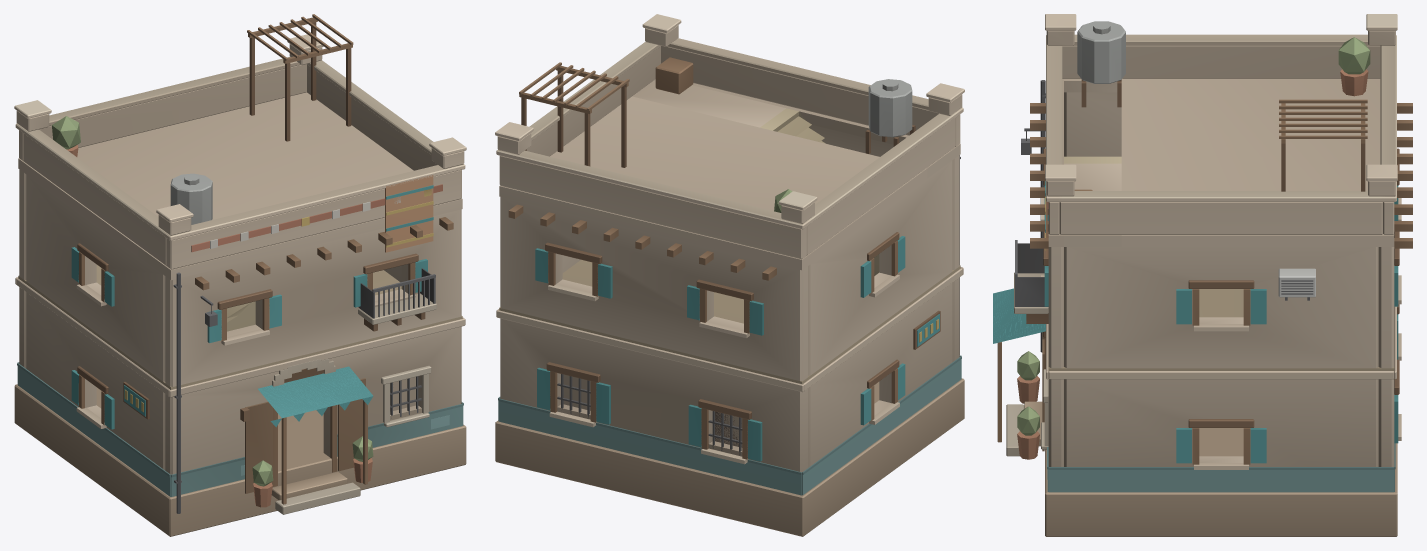
Rendered from house_3.glb.
The picture shows the model from 3 angles, left to right: view 1: azimuth 30°, elevation 25°; view 2: azimuth 150°, elevation 25°; view 3: azimuth 270°, elevation 25°; orthographic projection. The views are drawn at different scales.
Visible parts, largest first — view 1: house_3; view 2: house_3; view 3: house_3.
Boxes of the visible parts, <box> form: house_3: <box>14,14,466,536</box>; house_3: <box>495,14,964,536</box>; house_3: <box>993,14,1412,536</box>.
Bounding box in the file's own units: 9.24 × 9.84 × 9.47.
